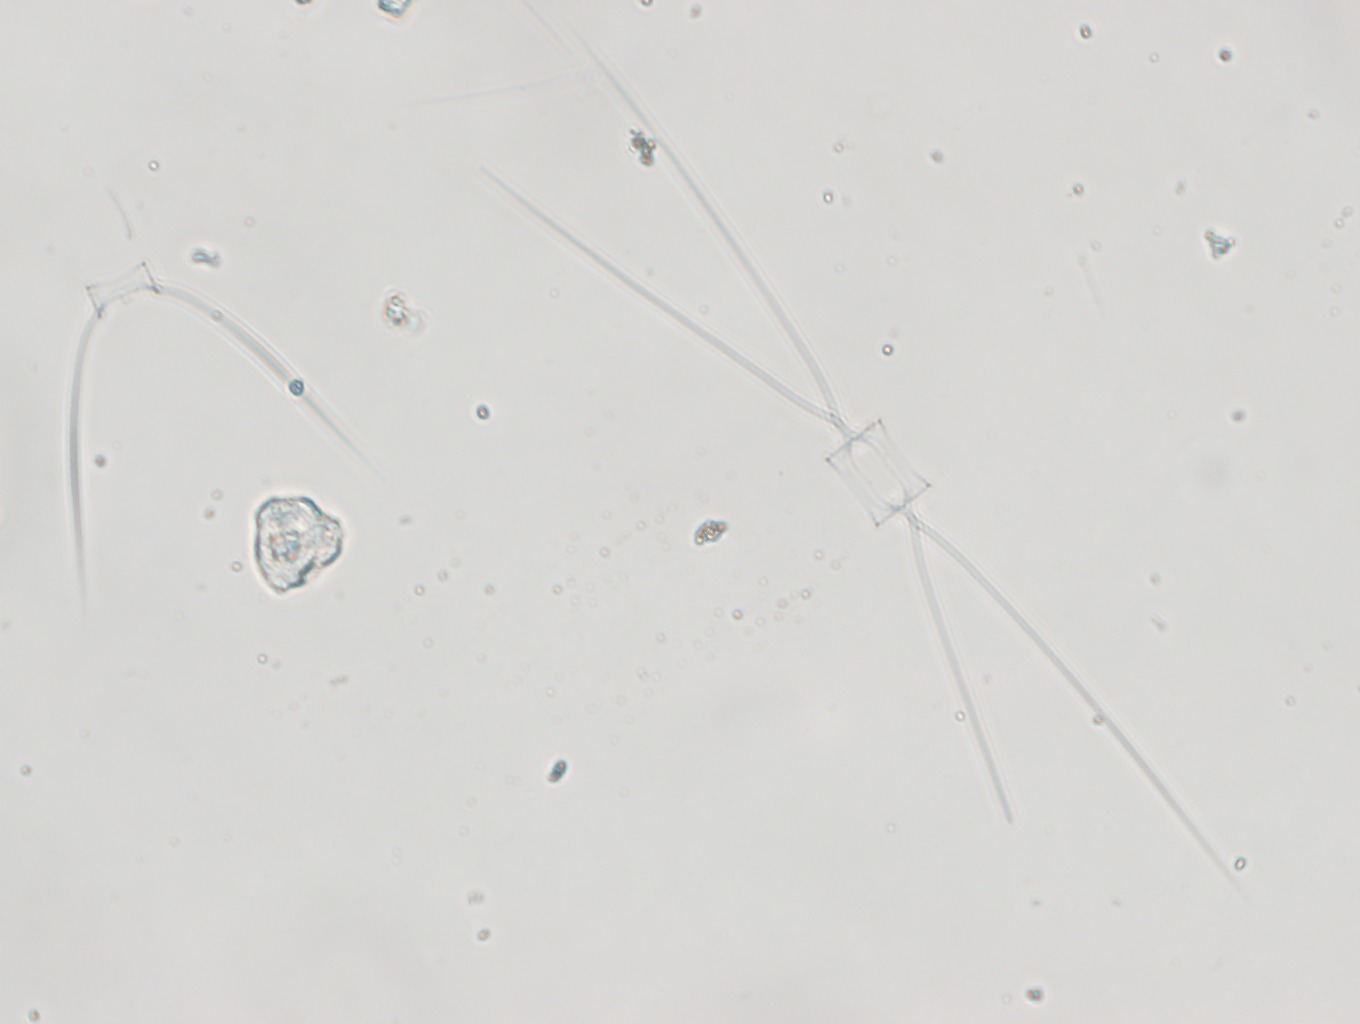chaetoceros: (467, 53, 1264, 918), (55, 253, 384, 620)
